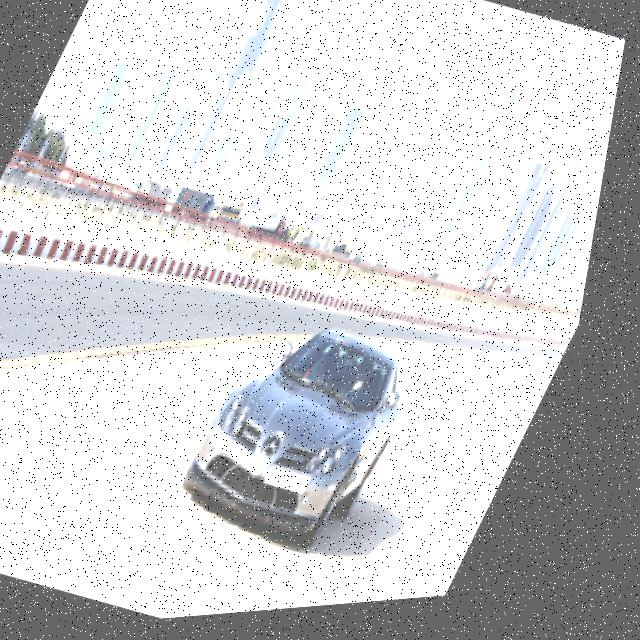license_plate: (272, 454, 338, 512)
